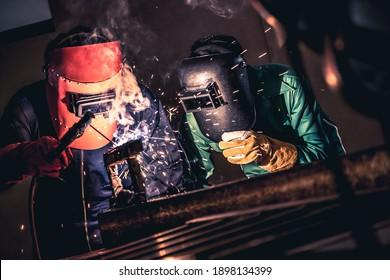gloves: (1, 135, 74, 185), (219, 127, 298, 173)
